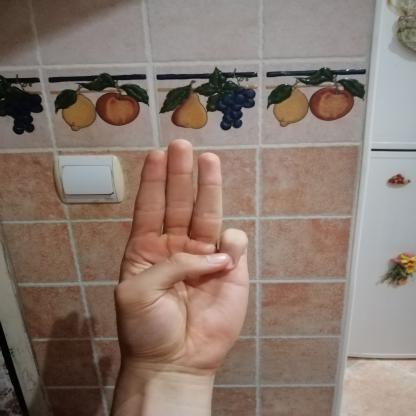THA: (98, 128, 266, 383)
